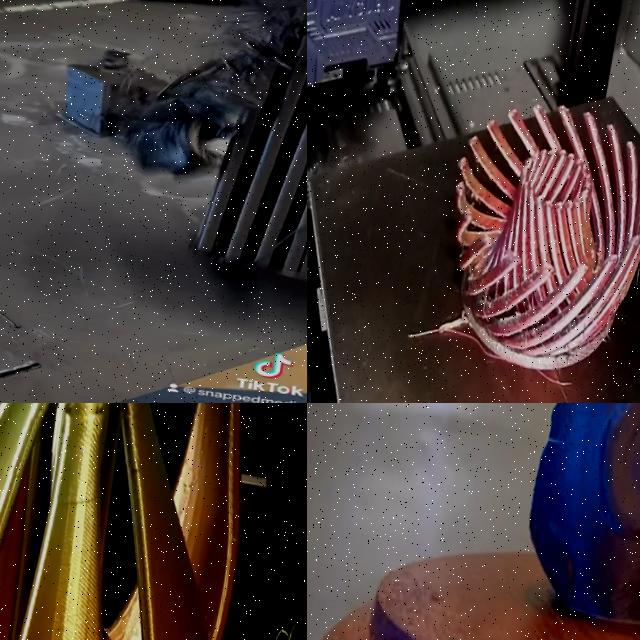spaghetti: (214, 0, 307, 65), (258, 613, 307, 640)
